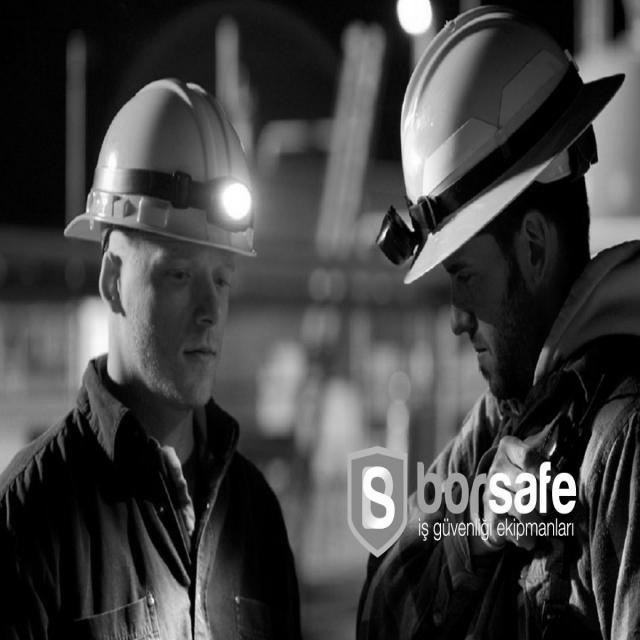construction helmet: (377, 8, 624, 285), (63, 78, 261, 261)
